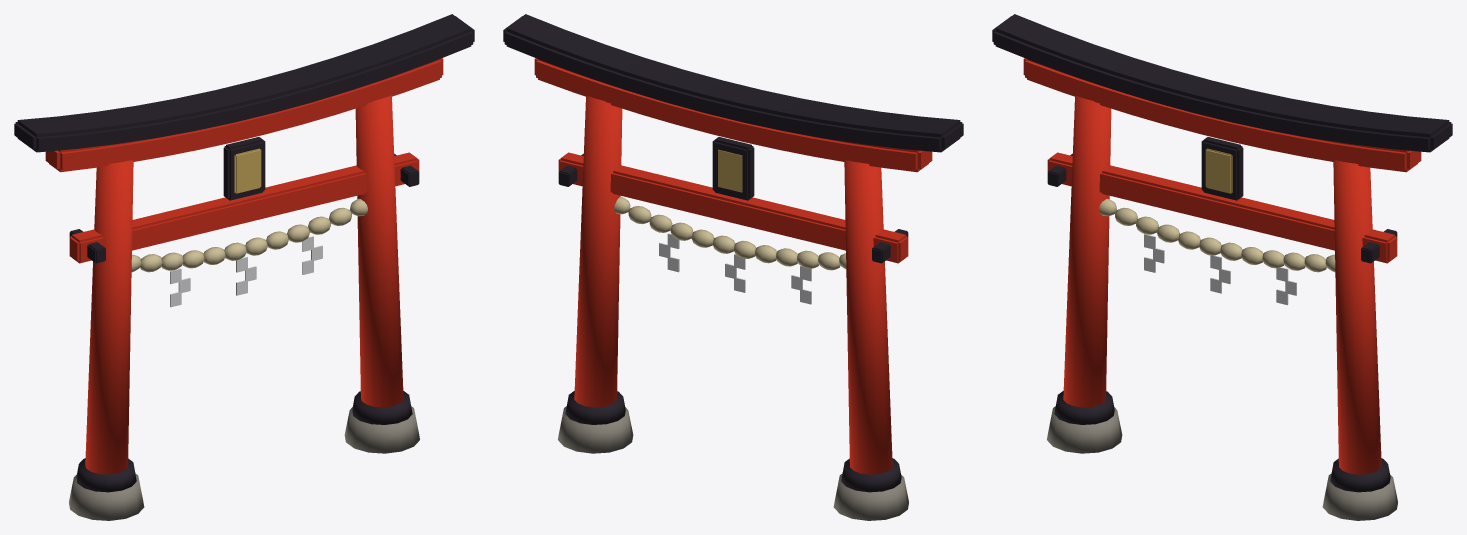
File: torii.glb
3 renders of one model, left to right at view 1: azimuth 30°, elevation 25°; view 2: azimuth 150°, elevation 25°; view 3: azimuth 330°, elevation 25°, orthographic.
Visible parts, largest first — view 1: Torii; view 2: Torii; view 3: Torii.
Boxes of the visible parts, x1,y1,x2,y2 form: Torii: (14, 14, 474, 520); Torii: (503, 14, 963, 520); Torii: (992, 14, 1452, 520).
Bounding box in the file's own units: 4 × 3.44 × 0.6.
